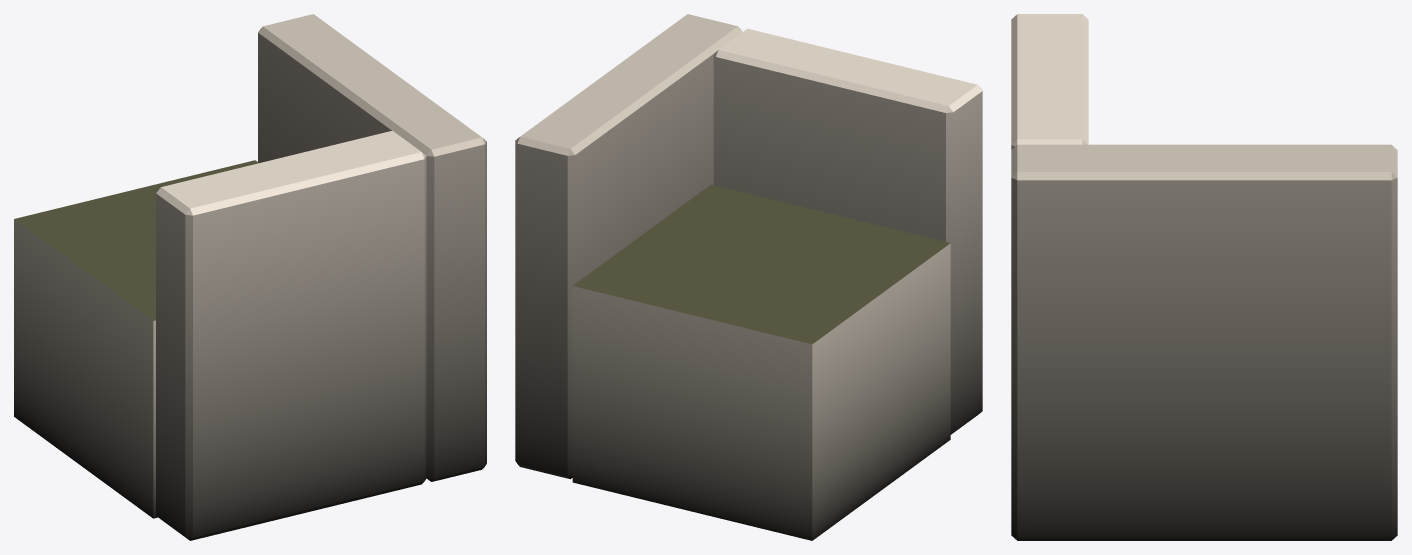
File: SM_VKI_Ground_Sewer_OOOX.fbx
3 renders of one model, left to right at view 1: azimuth 30°, elevation 25°; view 2: azimuth 150°, elevation 25°; view 3: azimuth 270°, elevation 25°, orthographic. The views are drawn at different scales.
Parts seen in each view (by area): view 1: SM_VKI_Ground_Sewer_OOOX.001; view 2: SM_VKI_Ground_Sewer_OOOX.001; view 3: SM_VKI_Ground_Sewer_OOOX.001.
Part boxes in pixels (left/top/right/bottom): SM_VKI_Ground_Sewer_OOOX.001: left=14, top=14, right=486, bottom=540; SM_VKI_Ground_Sewer_OOOX.001: left=515, top=14, right=982, bottom=540; SM_VKI_Ground_Sewer_OOOX.001: left=1011, top=14, right=1397, bottom=540.
Size of the model in its own units: 0.75 by 0.79 by 0.75.
